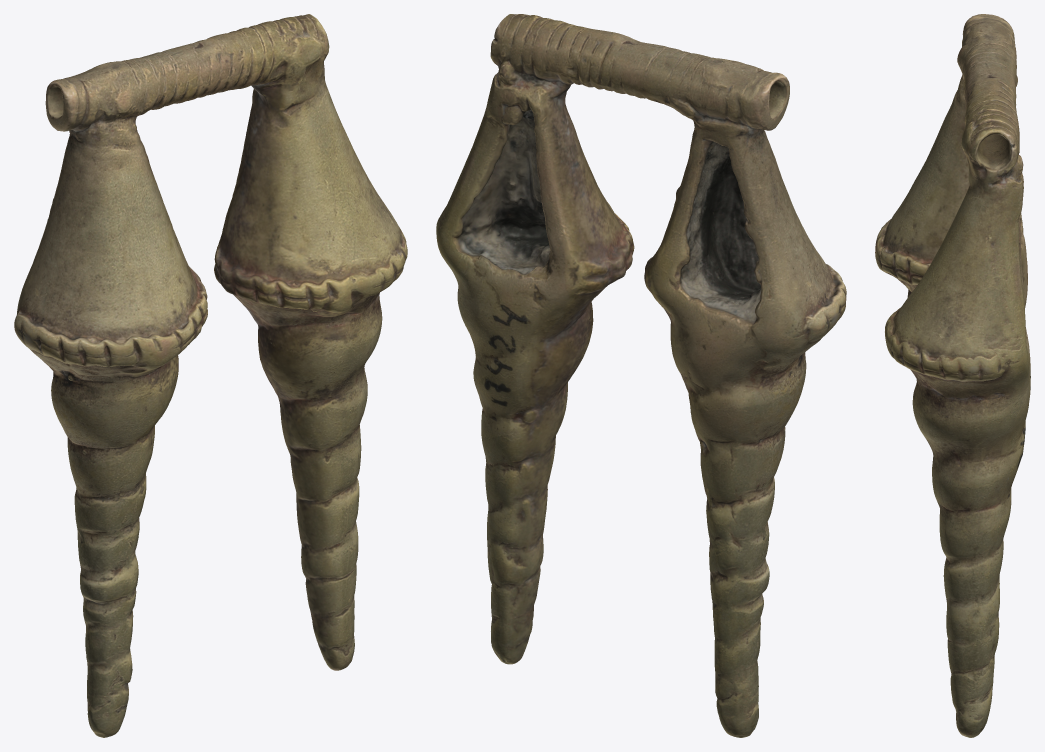
File: pendant_quimbaya_culture.glb
3 views of the same model, side by side, from view 1: azimuth 30°, elevation 25°; view 2: azimuth 150°, elevation 25°; view 3: azimuth 270°, elevation 25° (orthographic). The views are drawn at different scales.
Visible parts, largest first — view 1: Object_2; view 2: Object_2; view 3: Object_2.
Boxes of the visible parts, bbox=[...] form: Object_2: bbox=[14, 14, 407, 737]; Object_2: bbox=[436, 14, 846, 737]; Object_2: bbox=[875, 14, 1030, 737].
Bounding box in the file's own units: 0.0283 × 0.0478 × 0.0109.
Materials: 1 (1 with a texture image).
